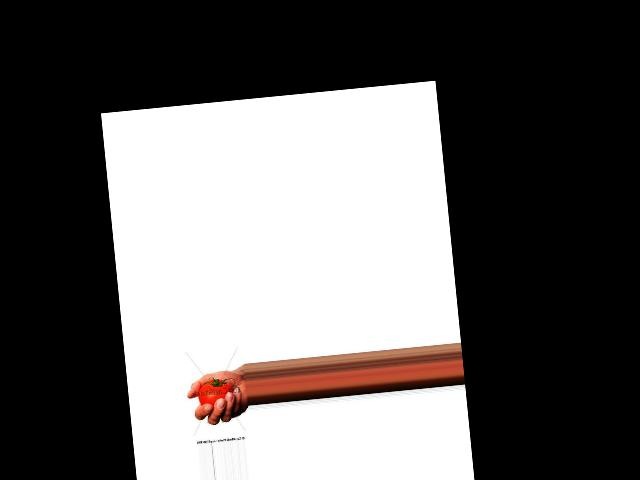tomato: (196, 378, 234, 406)
